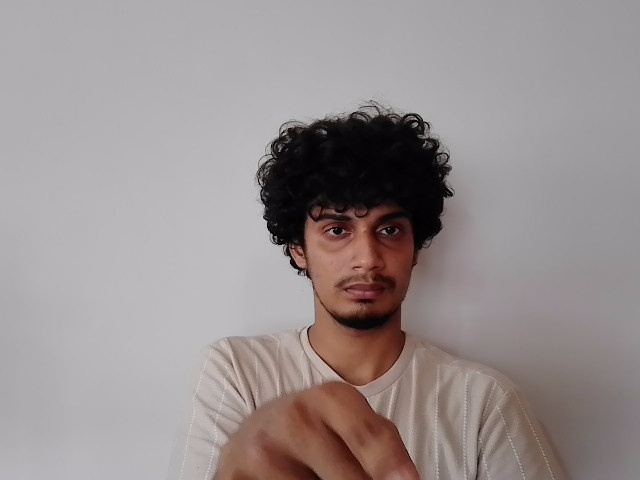you: (228, 380, 410, 480)
